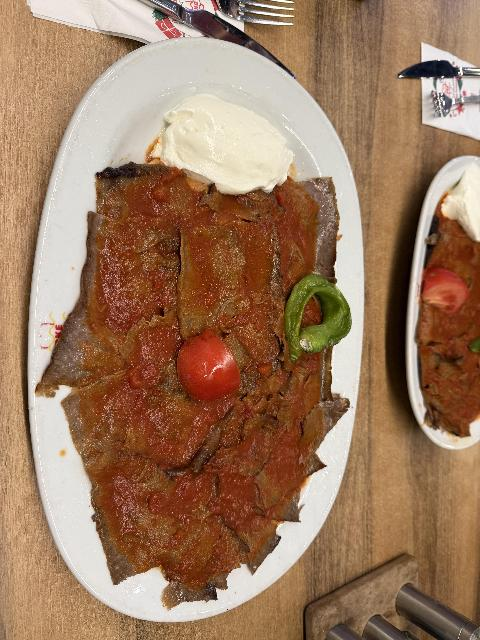Kagit: (27, 0, 138, 32)
Metal: (396, 58, 480, 80), (427, 83, 480, 117), (213, 2, 300, 22)
Organik: (86, 218, 184, 327), (161, 113, 287, 185), (108, 461, 185, 565), (296, 277, 350, 351), (180, 345, 236, 391)
